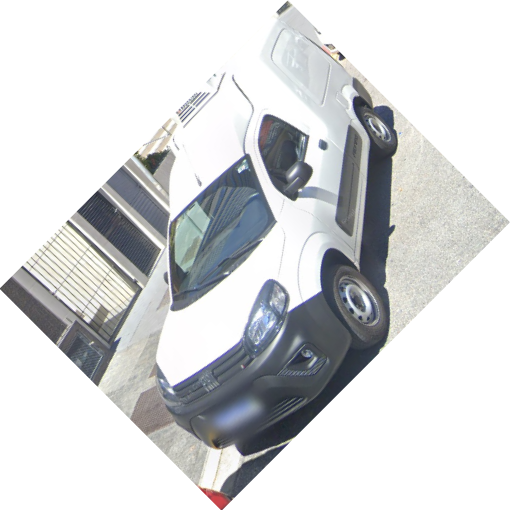car: (145, 16, 399, 452)
